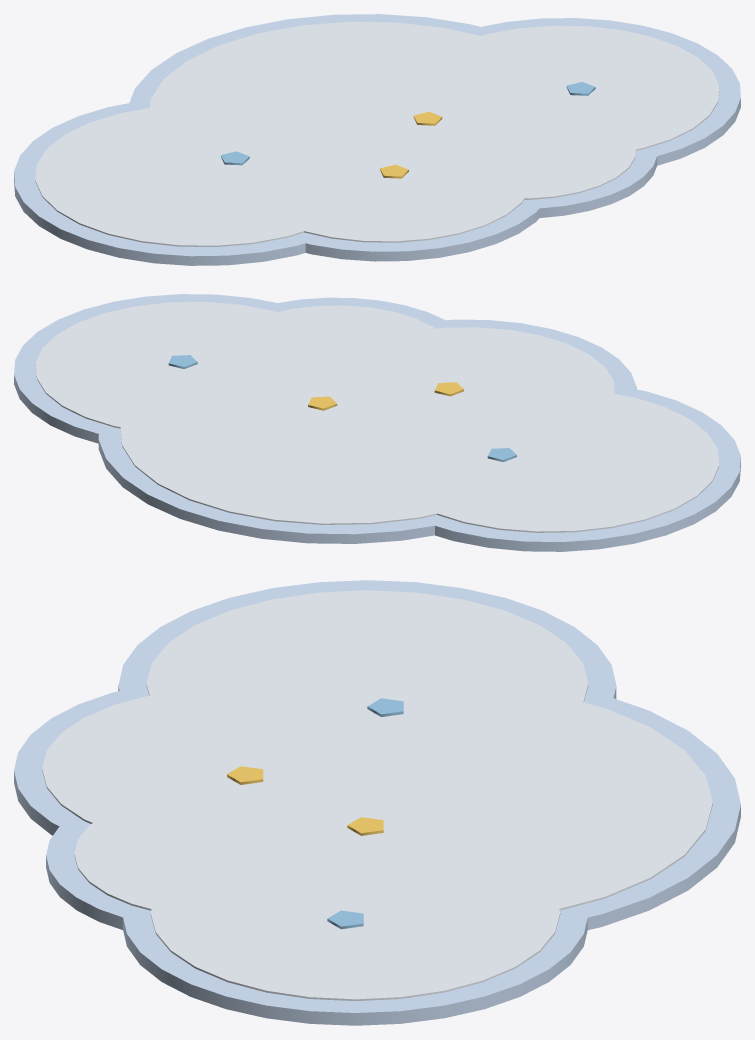
The model's file is bedrug-cloud.glb.
3 renders of one model, top to bottom at view 1: azimuth 30°, elevation 25°; view 2: azimuth 150°, elevation 25°; view 3: azimuth 270°, elevation 25°, orthographic. The views are drawn at different scales.
Bounding box in the file's own units: 2.55 × 0.0475 × 1.81.
